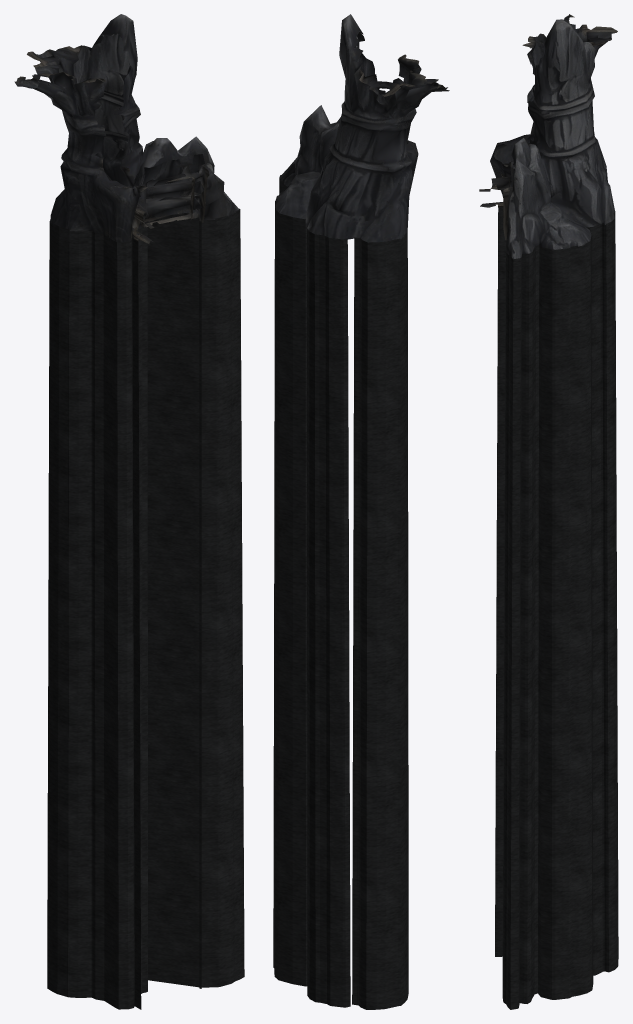
Rendered from horaro_rock_pillar_3_lod0.glb.
3 views of the same model, side by side, from view 1: azimuth 30°, elevation 25°; view 2: azimuth 150°, elevation 25°; view 3: azimuth 270°, elevation 25° (orthographic). The views are drawn at different scales.
Visible parts, largest first — view 1: horaro_rock_pillar_3_L0_foundation, horaro_rock_pillar_3_lod0; view 2: horaro_rock_pillar_3_L0_foundation, horaro_rock_pillar_3_lod0; view 3: horaro_rock_pillar_3_L0_foundation, horaro_rock_pillar_3_lod0.
Boxes of the visible parts, bbox=[...] form: horaro_rock_pillar_3_L0_foundation: bbox=[47, 206, 244, 1009]; horaro_rock_pillar_3_lod0: bbox=[14, 14, 239, 243]; horaro_rock_pillar_3_L0_foundation: bbox=[273, 175, 408, 1009]; horaro_rock_pillar_3_lod0: bbox=[275, 14, 449, 242]; horaro_rock_pillar_3_L0_foundation: bbox=[495, 207, 618, 1009]; horaro_rock_pillar_3_lod0: bbox=[479, 14, 617, 259].
Bounding box in the file's own units: 3.36 × 15.53 × 2.07.
Materials: 2 (2 with a texture image).
